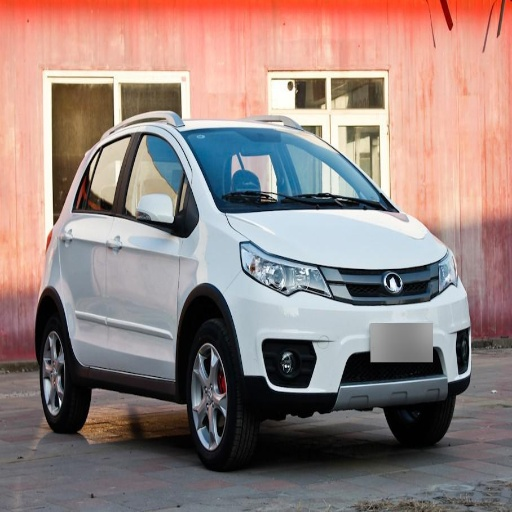front_bumper: (231, 261, 471, 401)
front_right_door: (105, 128, 198, 376)
front_right_light: (241, 243, 335, 297)
